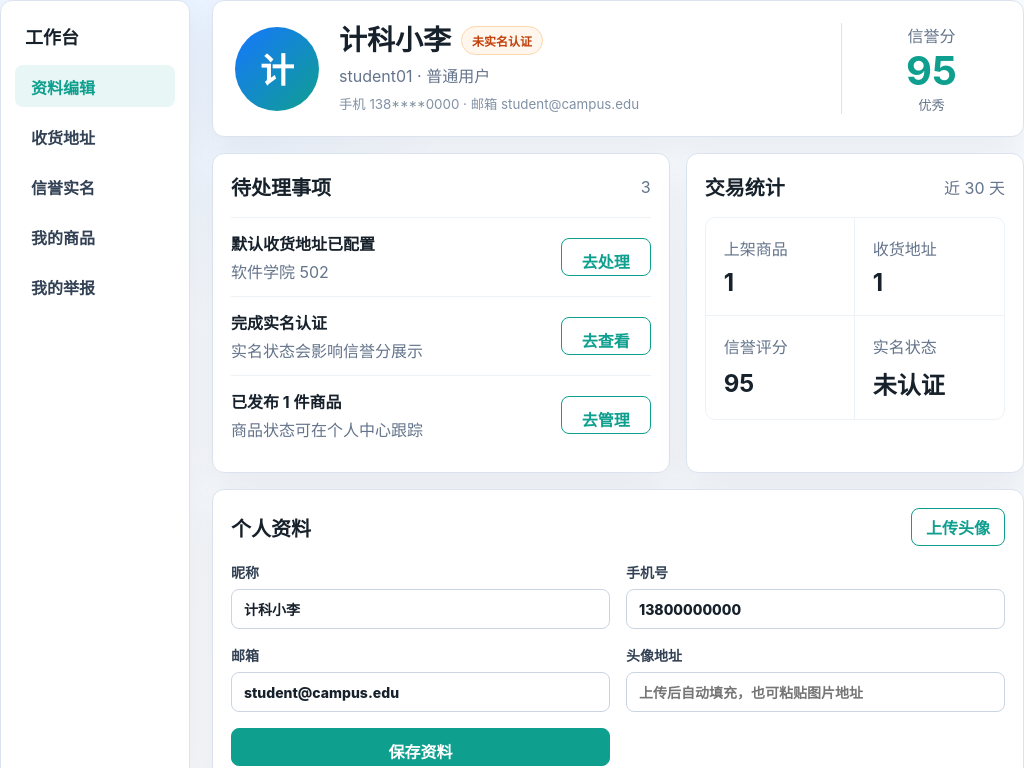
ProfileView › renders the workspace-style user center modules
Expected: the element with test id "profile-workbench" shows "计科小李", [339,23,451,57]
Expected: the element with test id "profile-panel" shows "上传头像", [926,518,990,538]
Click the button "收货地址" at (95, 136), box [15,115,175,157]
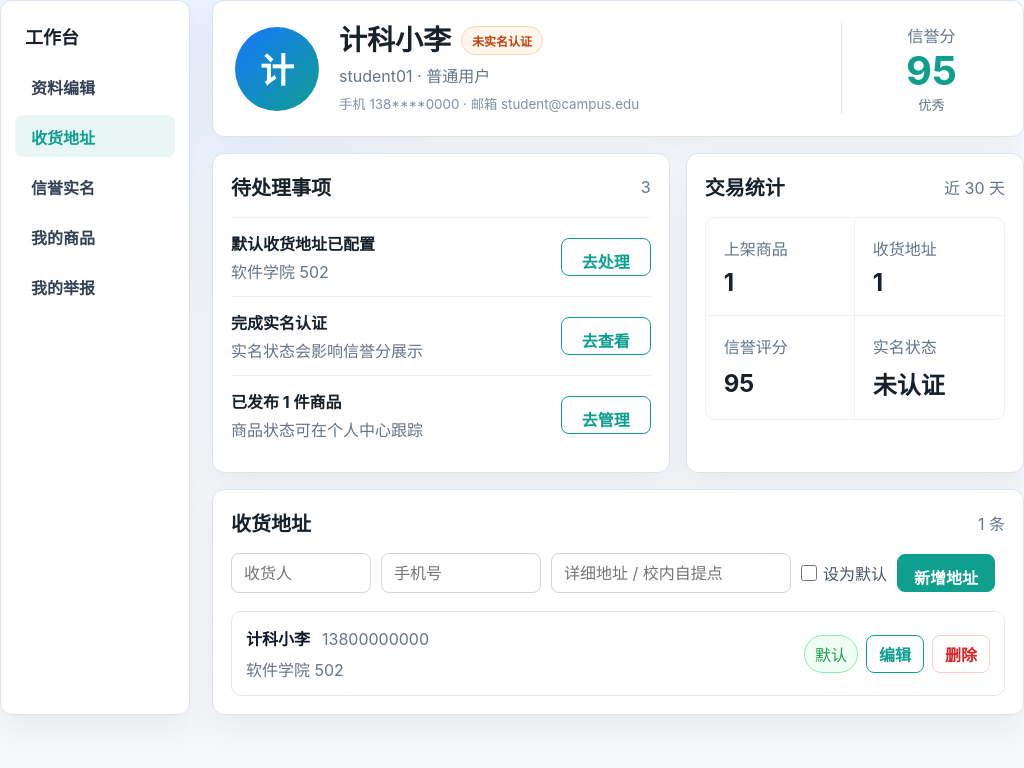
Now the element with test id "address-panel" shows "软件学院 502", box [246,660,344,680]
Now the element with test id "address-panel" shows "默认", box [815,644,847,664]
Click the button "信誉实名" at (95, 186), box [15,165,175,207]
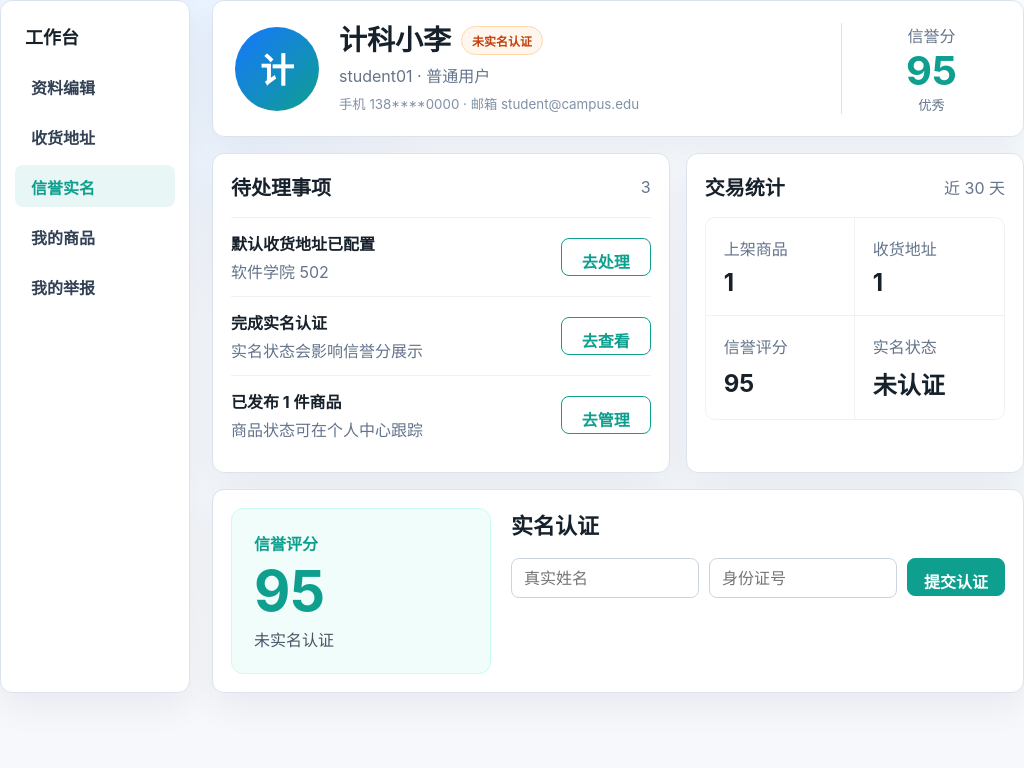
Now the element with test id "trust-panel" shows "信誉评分", box [254,534,318,554]
Now the element with test id "trust-panel" shows "未实名认证", box [254,630,334,650]
Click the button "我的商品" at (95, 236), box [15,215,175,257]
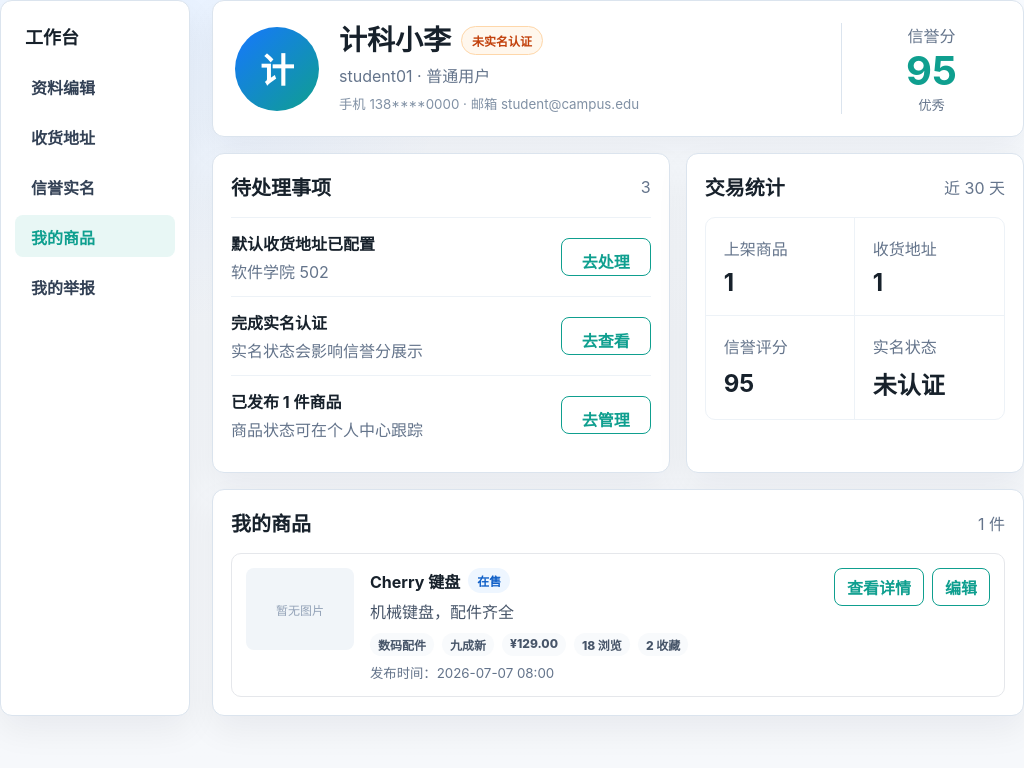
Now the element with test id "products-panel" shows "Cherry 键盘", box [370,572,460,592]
Now the element with test id "products-panel" shows "¥129.00", box [510,636,558,651]
Click the button "我的举报" at (95, 286), box [15,265,175,307]
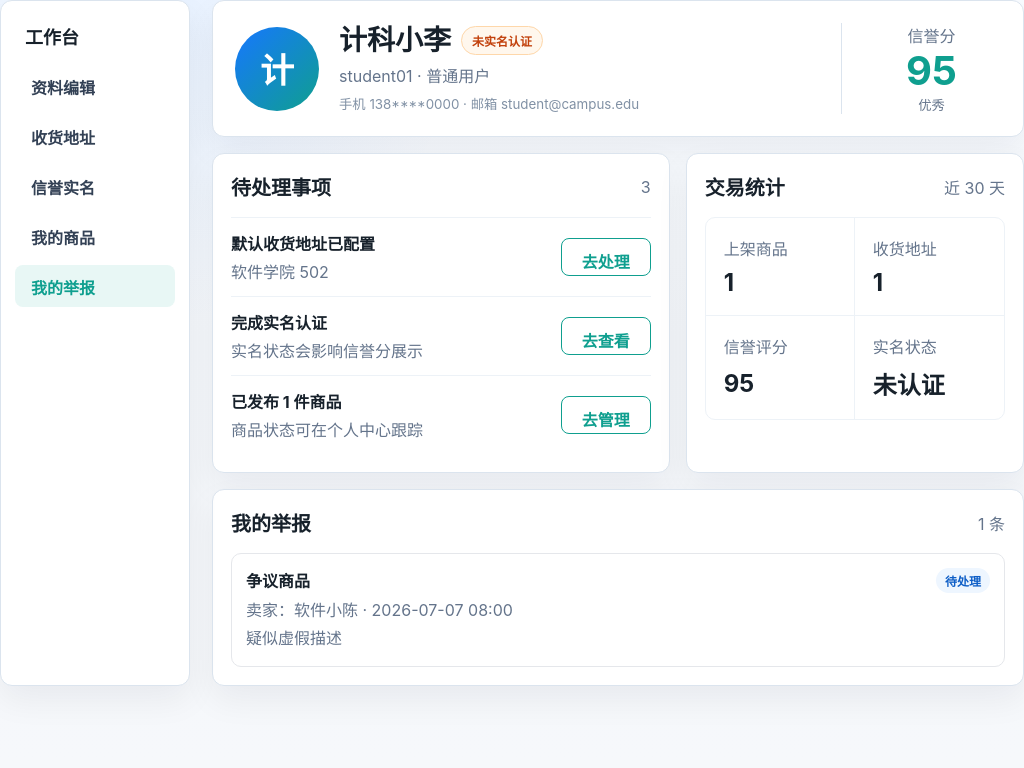
Now the element with test id "reports-panel" shows "疑似虚假描述", box [246,628,342,648]
